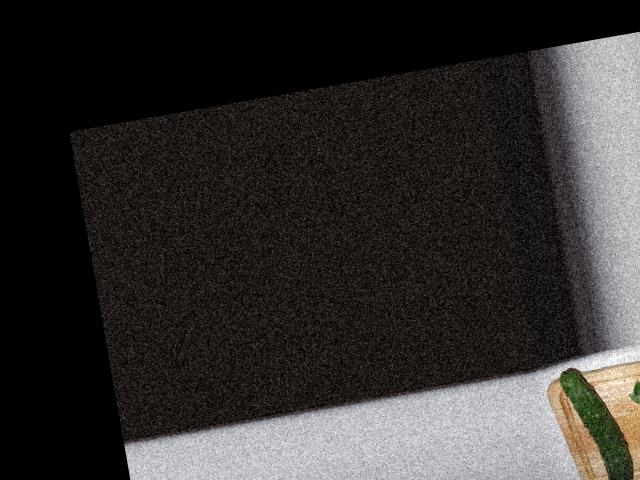cucumber: (557, 361, 636, 480)
